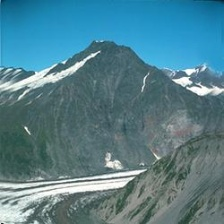neutral: (1, 5, 224, 223)
